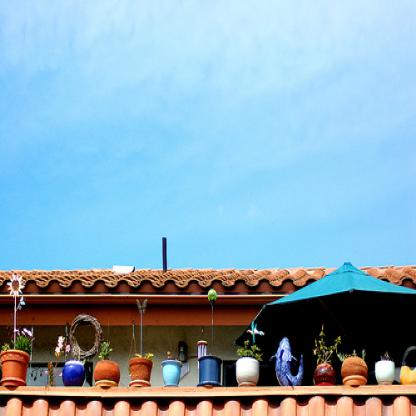pottedplant: (0, 271, 35, 389), (311, 322, 341, 386), (53, 334, 86, 387), (235, 337, 263, 386), (335, 348, 368, 388), (93, 340, 120, 387), (127, 350, 154, 386), (195, 352, 223, 386), (160, 350, 182, 386), (375, 350, 396, 385)
